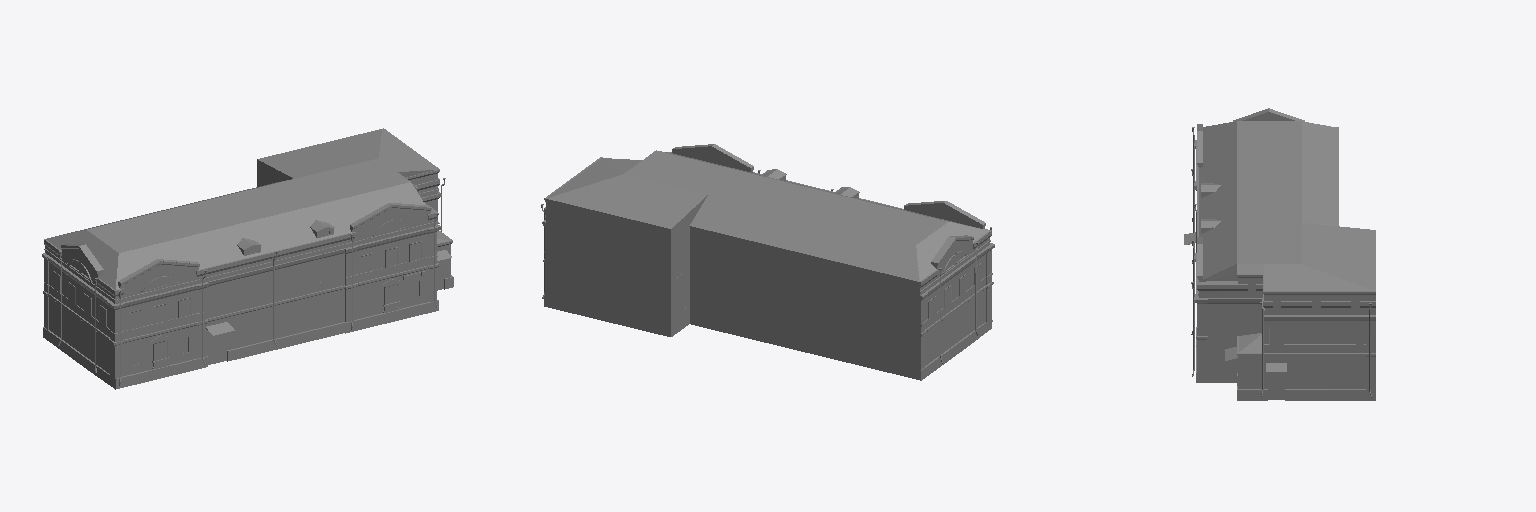
File: House_3.obj
The picture shows the model from 3 angles: view 1: azimuth 30°, elevation 25°; view 2: azimuth 150°, elevation 25°; view 3: azimuth 270°, elevation 25°; orthographic projection.
Size of the model in its own units: 4.74 by 1.42 by 2.1.